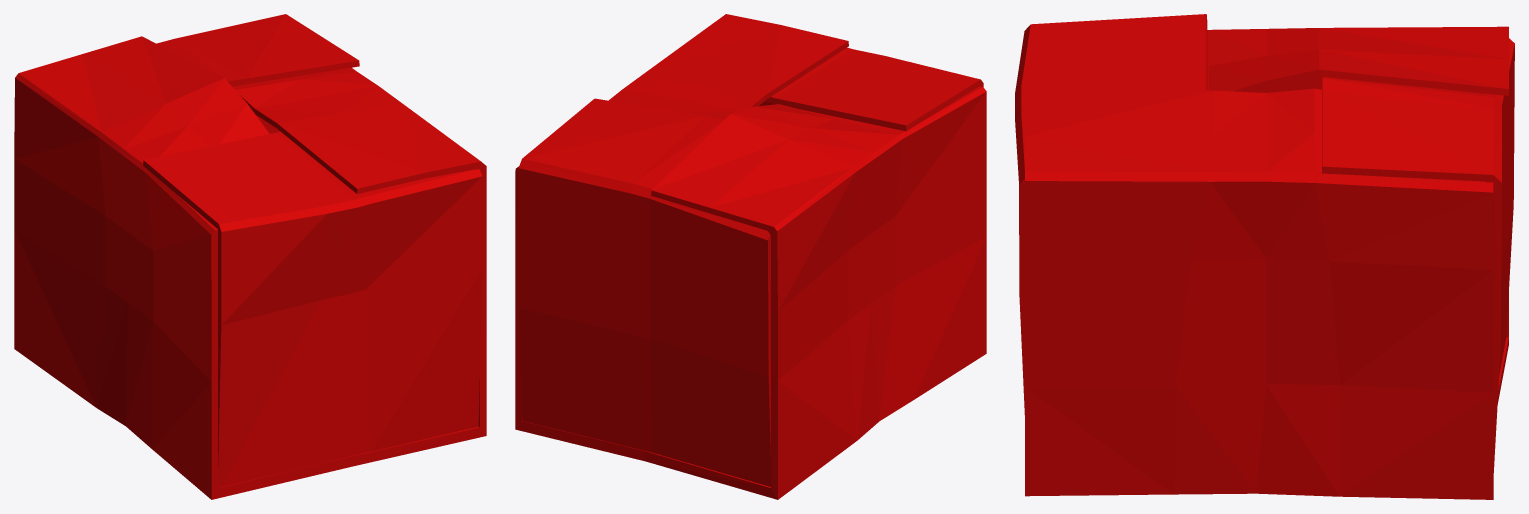
3 views of the same model, side by side, from view 1: azimuth 30°, elevation 25°; view 2: azimuth 150°, elevation 25°; view 3: azimuth 270°, elevation 25° (orthographic). The views are drawn at different scales.
Visible parts, largest first — view 1: Mesh; view 2: Mesh; view 3: Mesh.
Part boxes in pixels (x1=…): Mesh: x1=14, y1=14, x2=486, y2=499; Mesh: x1=515, y1=14, x2=986, y2=499; Mesh: x1=1015, y1=14, x2=1514, y2=499.
Bounding box in the file's own units: 0.6204 × 0.6358 × 0.8255.
